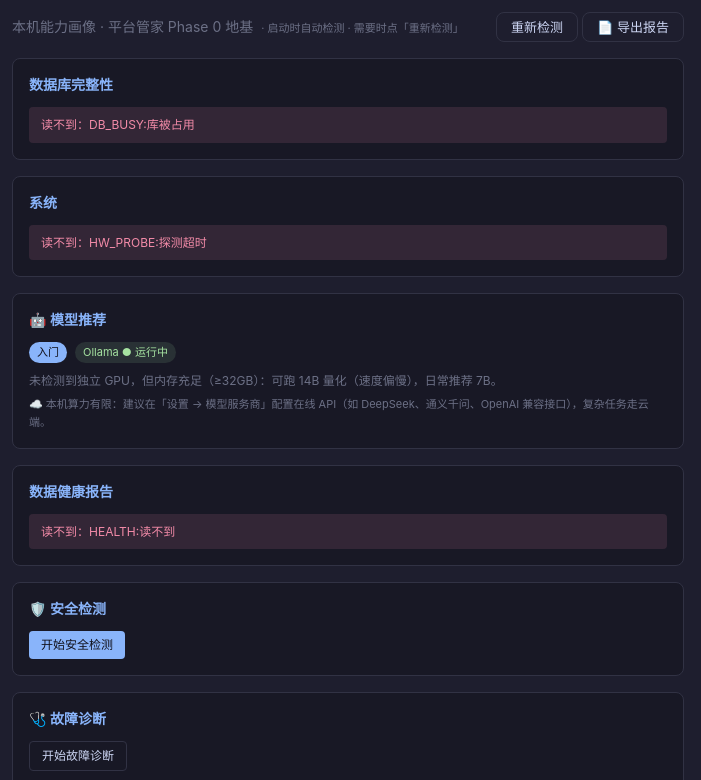
Test: ① 管家页：信封化之后，读不到的那一块说的是「读不到」 › 后来到货 ⇒ 那句「读不到」必须自己收回（不留陈旧谎报）
Click the button "重新检测" at (537, 27), box [496,12,578,42]
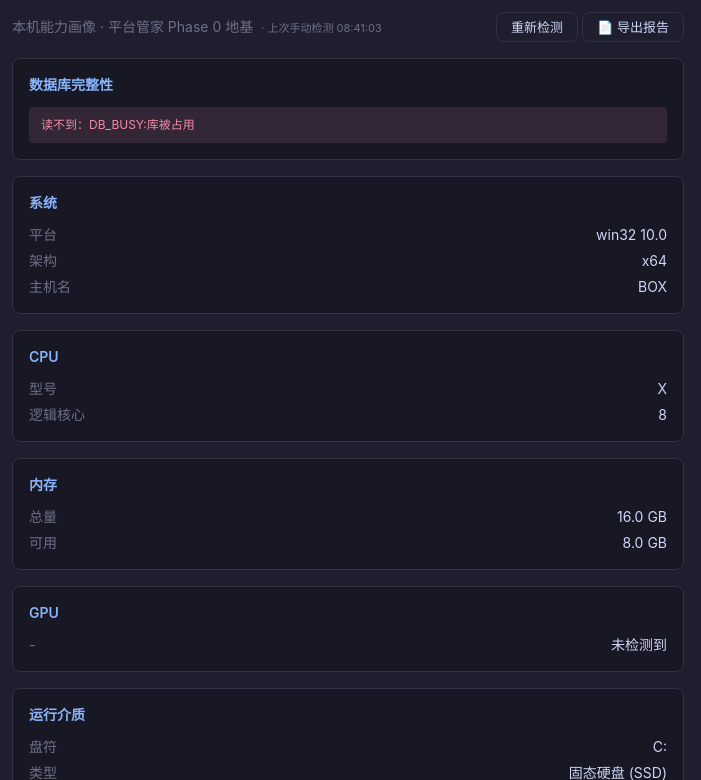
expect the text "win32 10.0" is shown: met, box [596,224,667,244]
